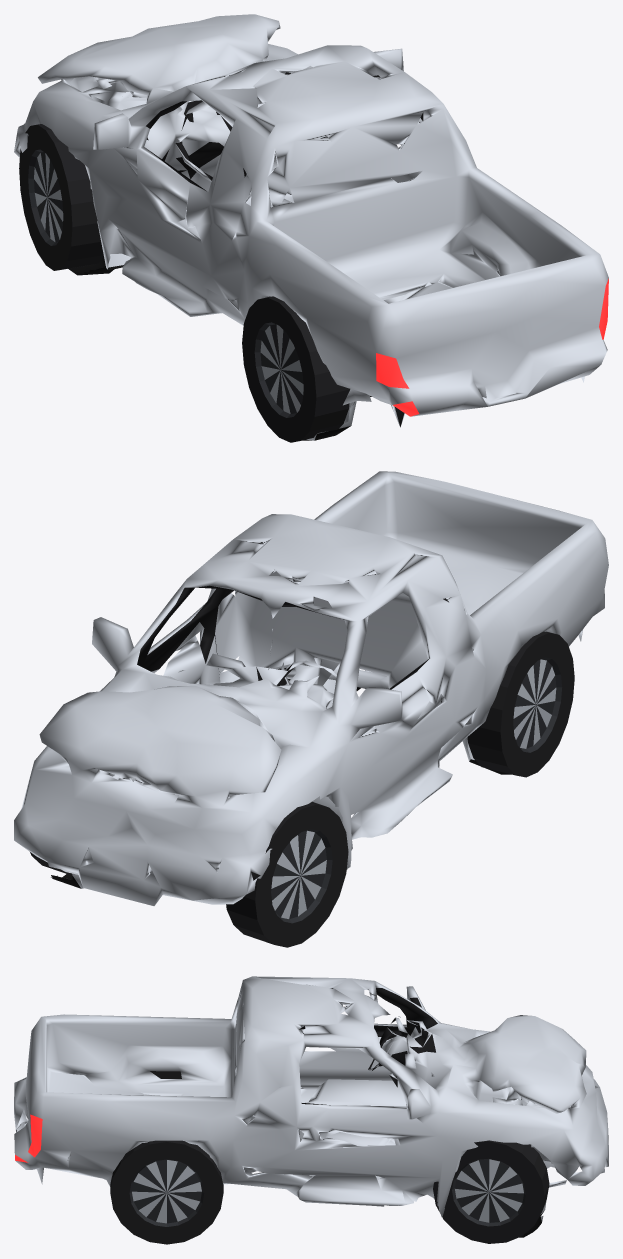
Rendered from car_wreck.glb.
3 views of the same model, one above another, from view 1: azimuth 30°, elevation 25°; view 2: azimuth 150°, elevation 25°; view 3: azimuth 270°, elevation 25° (orthographic). The views are drawn at different scales.
Visible parts, largest first — view 1: body; view 2: body; view 3: body.
Boxes of the visible parts, x1,y1,x2,y2 form: body: (14, 14, 608, 442); body: (14, 471, 608, 947); body: (14, 976, 608, 1244).
Size of the model in its own units: 2.17 by 1.7 by 4.73.
Materials: 2 (1 with a texture image).
